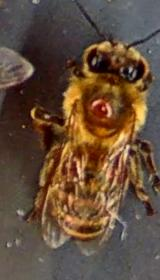varroa_mite: (85, 90, 116, 120)
